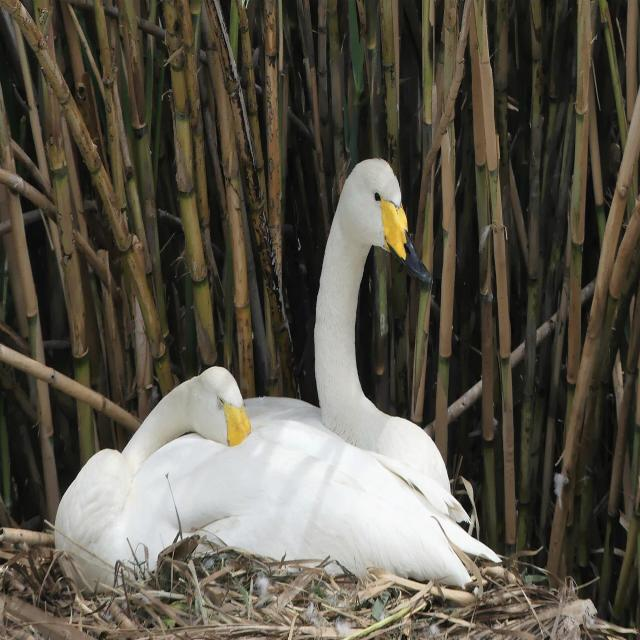swan: (54, 367, 500, 588), (258, 158, 470, 524)
